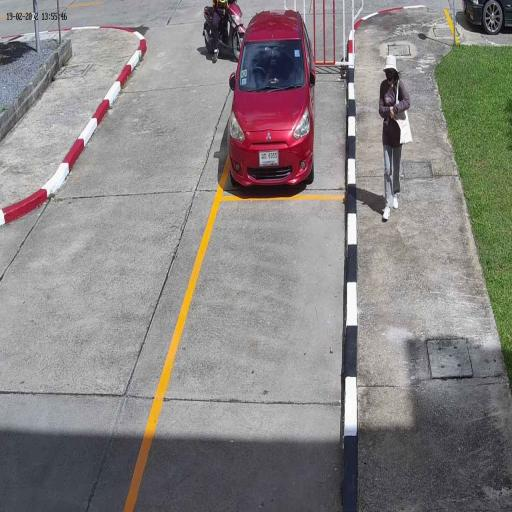car: (229, 12, 318, 186)
motorcycle: (202, 7, 245, 56)
